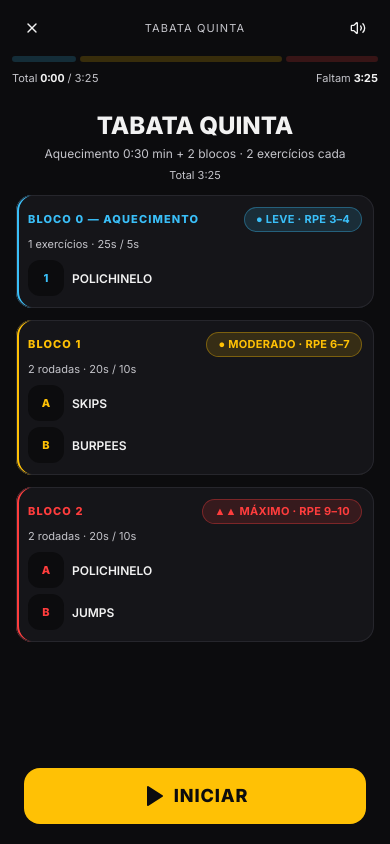
Test: Player do TABATA — tela nova › pausado mostra o overlay; encerrar leva ao resumo e salva o RPE na sessão
The width and height of the screenshot is (390, 844).
Later steps or results of the test are not shown.
Click the button "Iniciar" at (195, 796), box [24,768,366,824]
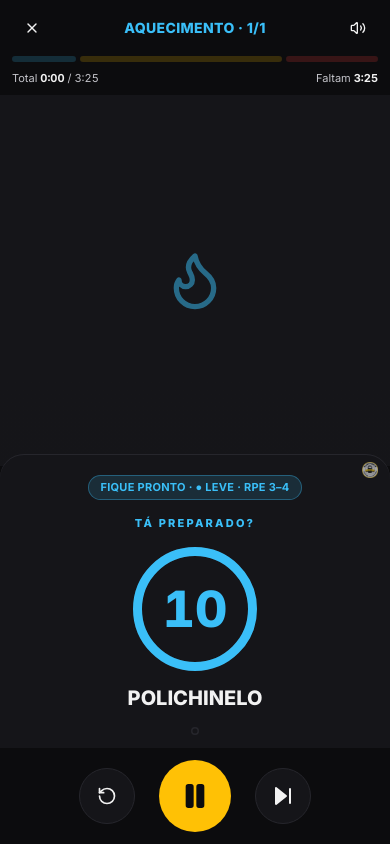
Click the button named "Avançar" at (283, 796), box [255,768,311,824]
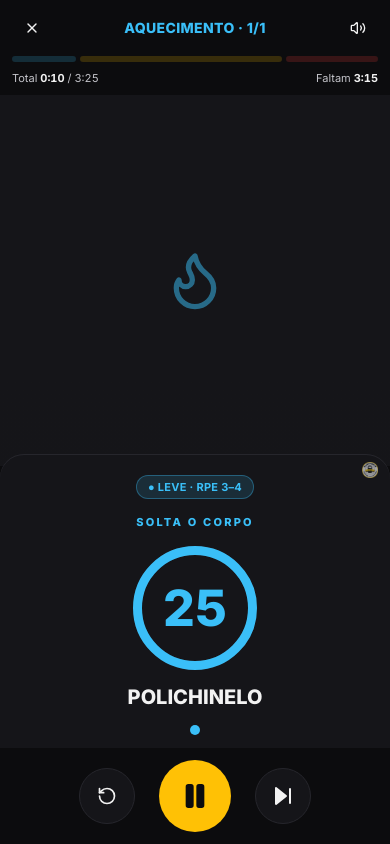
Click the button named "Avançar" at (283, 796), box [255,768,311,824]
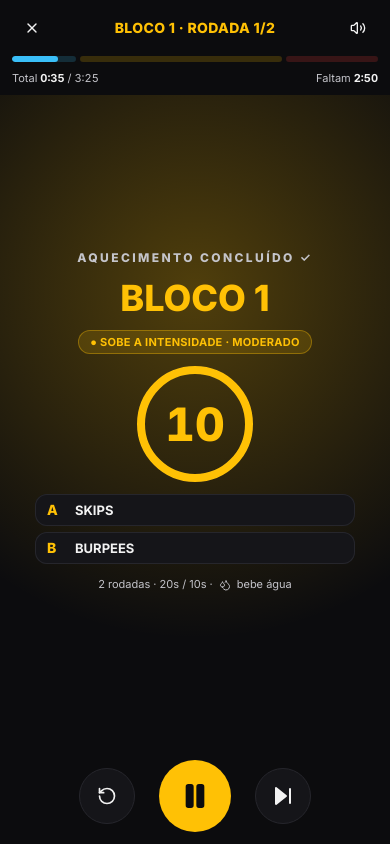
Click the button named "Avançar" at (283, 796), box [255,768,311,824]
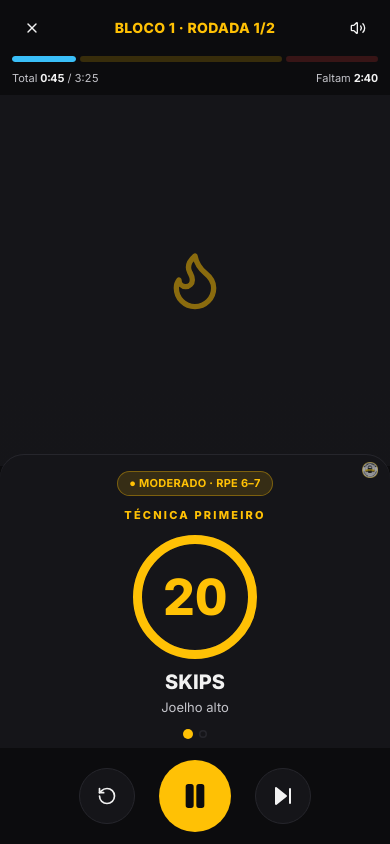
Click the button named "Pausar" at (195, 796), box [159,760,231,832]
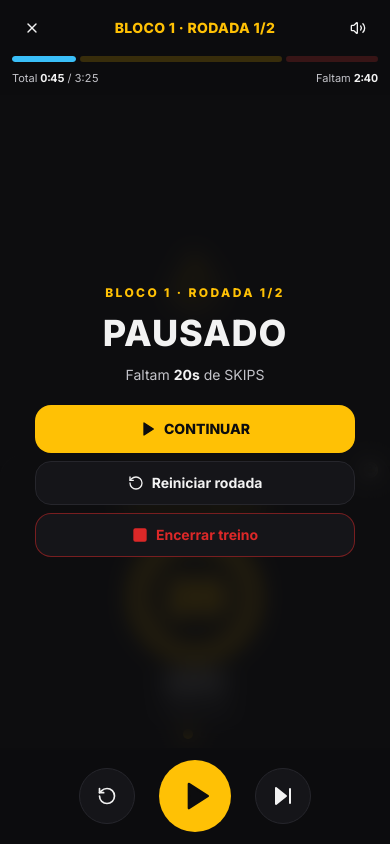
Check: the element with test id "tabata-paused" shows "PAUSADO", box [103,311,287,355]
Check: the element with test id "tabata-paused" shows "BLOCO 1 · RODADA 1/2", box [105,285,285,300]
Click the button "Encerrar treino" at (195, 535), box [35,513,355,557]
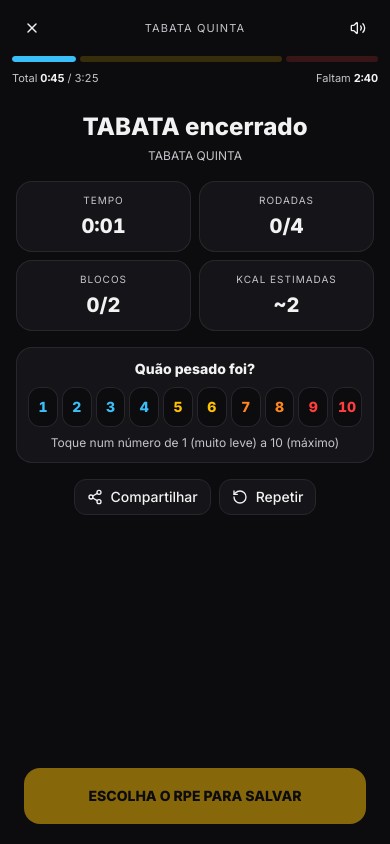
Check: the element with test id "tabata-done" shows "TABATA encerrado", box [82,112,308,140]
Check: the button "Escolha o RPE para salvar" is disabled, box [24,768,366,824]
